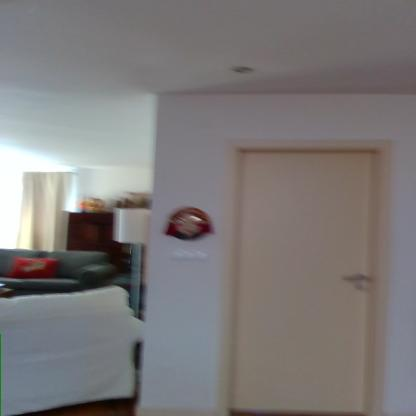closed: (217, 127, 407, 411)
